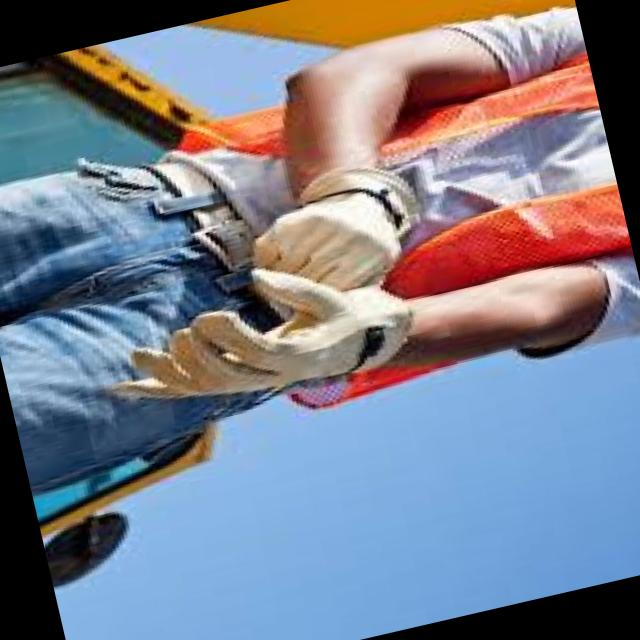gloved: (91, 231, 426, 426), (244, 148, 433, 310)
